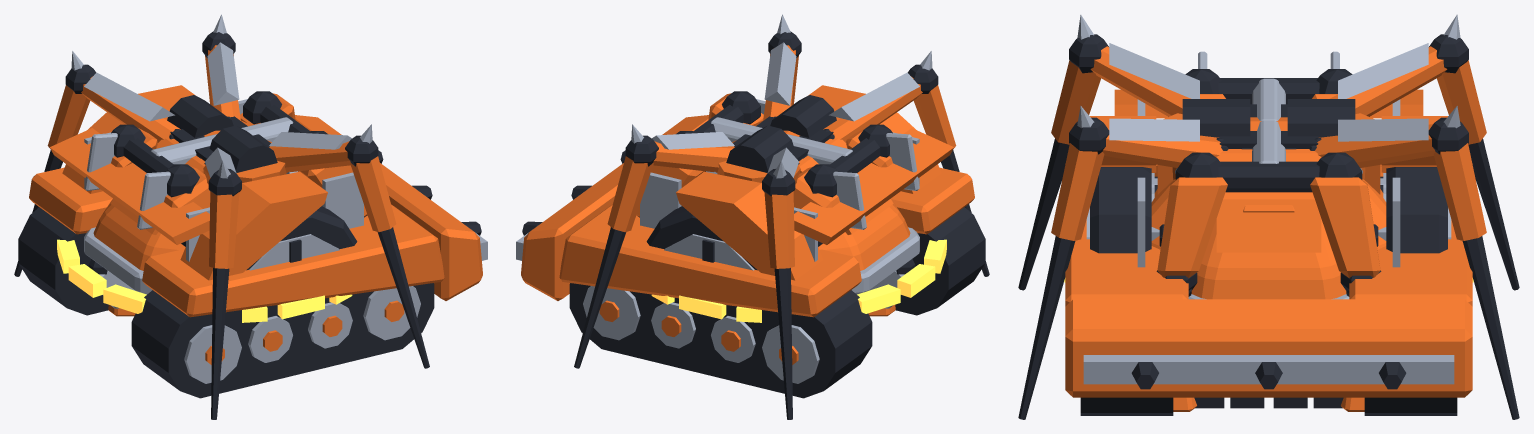
File: legs.glb
3 views of the same model, side by side, from view 1: azimuth 30°, elevation 25°; view 2: azimuth 150°, elevation 25°; view 3: azimuth 270°, elevation 25° (orthographic). The views are drawn at different scales.
Parts seen in each view (by area): view 1: treads, wheels, hover, spider_leg1, spider_leg2, spider_leg4, quad, wheels_tire_R, spider_leg3, stompers_leg_R, quad_leg1, quad_leg4 (+4 smaller); view 2: treads, wheels, hover, spider_leg3, spider_leg4, spider_leg2, quad, wheels_tire_L, spider_leg1, stompers_leg_L, quad_leg3, quad_leg2 (+4 smaller); view 3: treads, spider_leg1, spider_leg3, spider_leg2, spider_leg4, hover, mono, quad_leg1, quad_leg3, quad, wheels_tire_L, wheels_tire_R (+5 smaller).
Part boxes in pixels (<box>): treads: <box>18,115,487,398</box>; wheels: <box>50,85,327,280</box>; hover: <box>57,133,352,322</box>; spider_leg1: <box>266,124,429,368</box>; spider_leg2: <box>14,51,180,276</box>; spider_leg4: <box>203,147,241,419</box>; quad: <box>123,105,310,172</box>; wheels_tire_R: <box>246,206,357,270</box>; spider_leg3: <box>202,14,240,120</box>; stompers_leg_R: <box>209,125,297,182</box>; quad_leg1: <box>298,131,367,228</box>; quad_leg4: <box>164,164,210,261</box>; treads: <box>516,115,985,398</box>; wheels: <box>676,85,953,280</box>; hover: <box>651,133,946,322</box>; spider_leg3: <box>574,124,737,368</box>; spider_leg4: <box>823,51,989,276</box>; spider_leg2: <box>762,147,800,419</box>; quad: <box>693,105,880,172</box>; wheels_tire_L: <box>646,206,757,270</box>; spider_leg1: <box>763,14,801,120</box>; stompers_leg_L: <box>706,125,794,182</box>; quad_leg3: <box>636,131,705,228</box>; quad_leg2: <box>793,164,839,261</box>; treads: <box>1065,164,1472,415</box>; spider_leg1: <box>1018,106,1228,419</box>; spider_leg3: <box>1309,106,1519,419</box>; spider_leg2: <box>1330,14,1519,290</box>; spider_leg4: <box>1018,14,1207,290</box>; hover: <box>1064,51,1473,299</box>; mono: <box>1216,104,1321,252</box>; quad_leg1: <box>1137,152,1227,411</box>; quad_leg3: <box>1310,152,1400,411</box>; quad: <box>1218,78,1319,212</box>; wheels_tire_L: <box>1383,167,1451,253</box>; wheels_tire_R: <box>1086,167,1154,253</box>.
Size of the model in its own units: 1.63 by 1.05 by 1.62.
